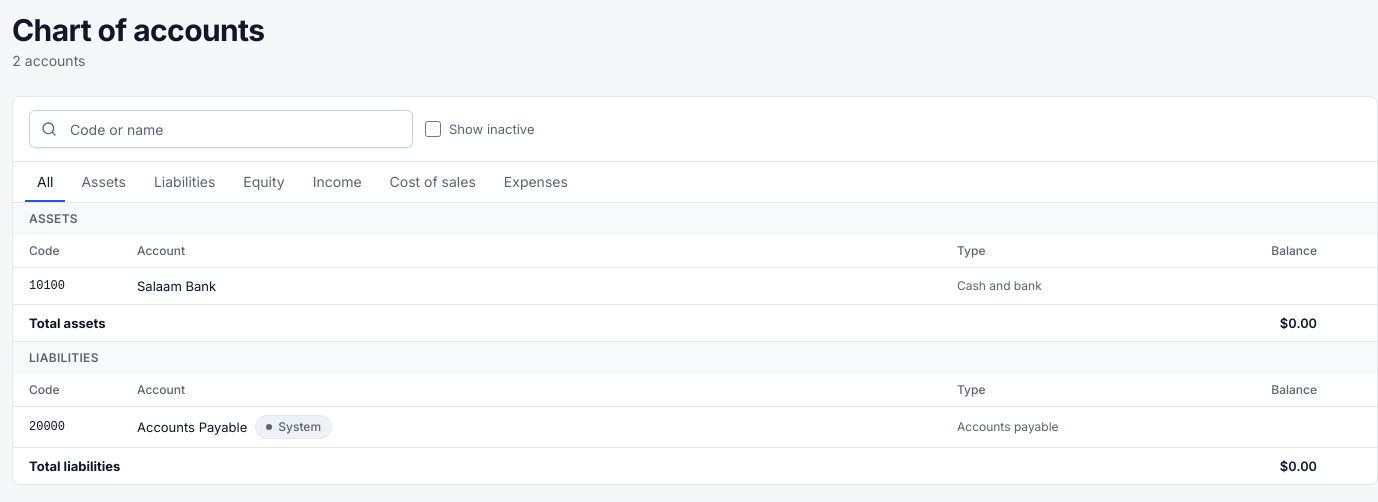
ChartOfAccounts › filters by name
In the field named "Search accounts": (221, 129) x1=29 y1=110 x2=413 y2=148, type "payable"
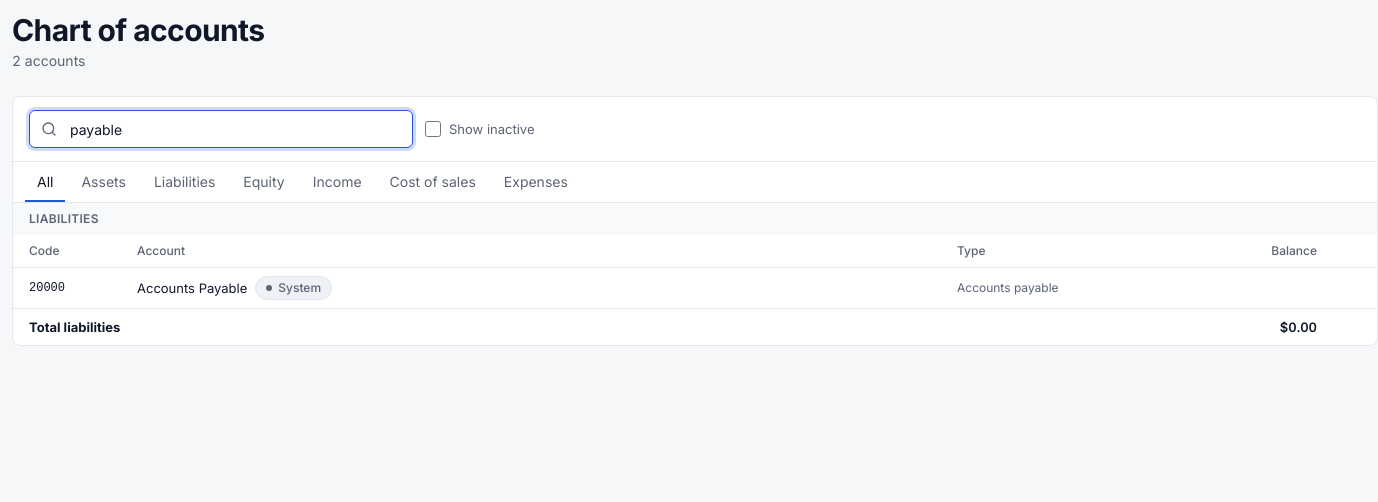
expect the text "Accounts Payable" is shown: met, box x1=137 y1=278 x2=247 y2=298
expect the text "Salaam Bank" is gone: met
